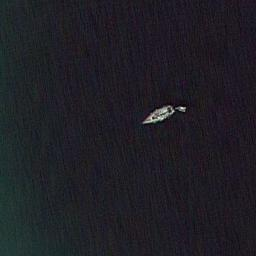boat: (139, 104, 176, 125), (177, 103, 188, 114)
